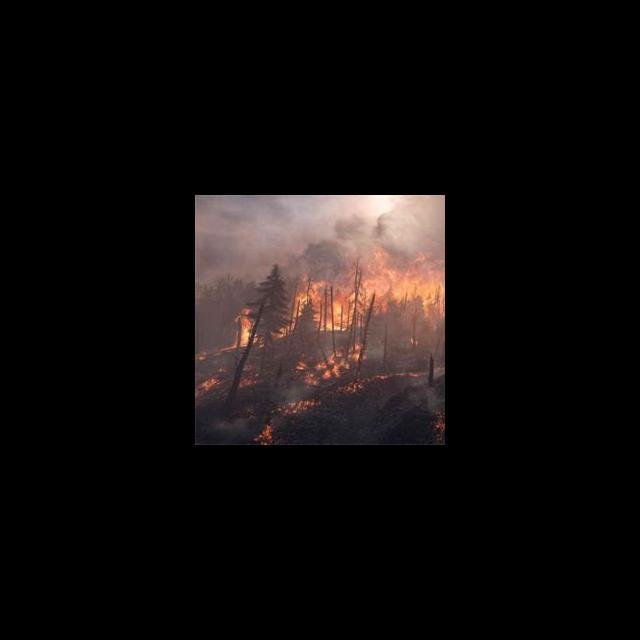Fire: (227, 249, 444, 344), (289, 342, 372, 386)
